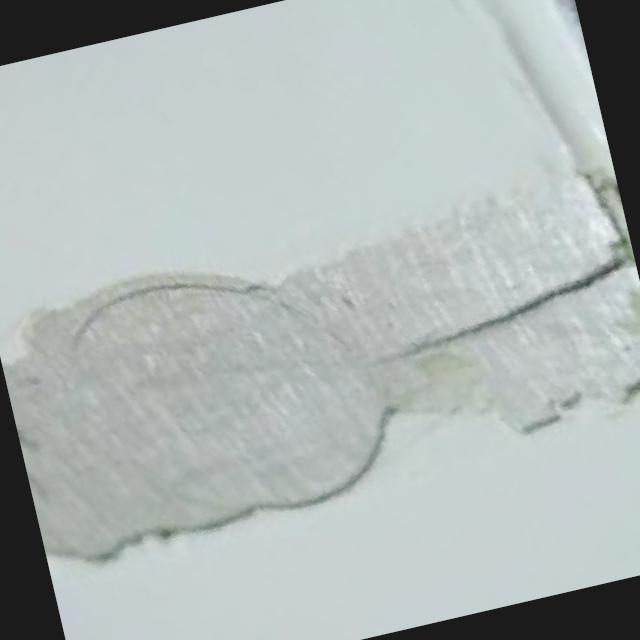crack: (398, 314, 522, 366), (511, 262, 626, 314)
